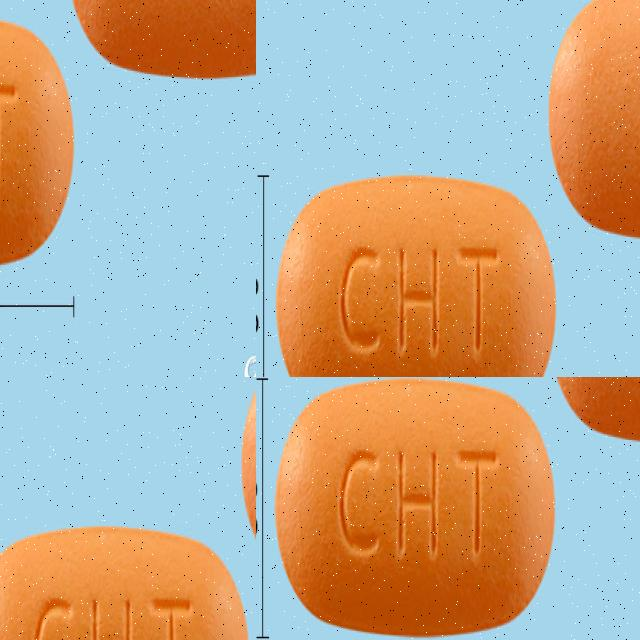Celltrion Clarithromycin - 500mg: (274, 159, 563, 377), (547, 0, 640, 249)
Ceracin Cap: (0, 124, 138, 364)
Ciprox: (58, 553, 256, 640)
Croracin: (276, 377, 556, 635)
